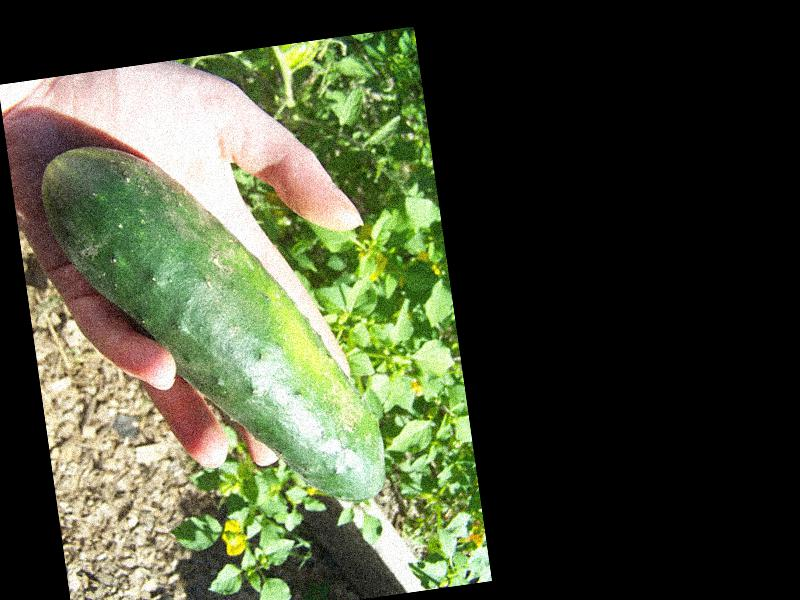Cucumber: (38, 113, 389, 540)
